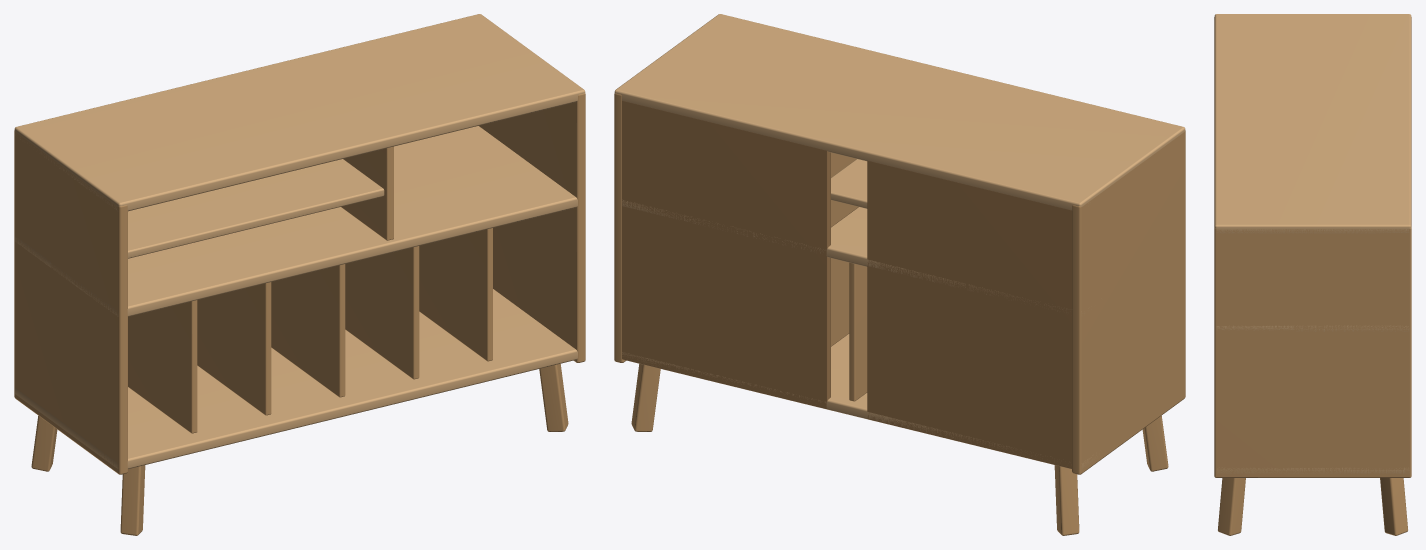
File: vinyl-cabinet.glb
3 renders of one model, left to right at view 1: azimuth 30°, elevation 25°; view 2: azimuth 150°, elevation 25°; view 3: azimuth 270°, elevation 25°, orthographic. The views are drawn at different scales.
Visible parts, largest first — view 1: vinyl-cabinet authored assembly; view 2: vinyl-cabinet authored assembly; view 3: vinyl-cabinet authored assembly.
Part boxes in pixels (box(x1,y1,x2,y2)): vinyl-cabinet authored assembly: box(14, 14, 585, 535); vinyl-cabinet authored assembly: box(614, 14, 1185, 535); vinyl-cabinet authored assembly: box(1214, 14, 1411, 535).
Size of the model in its own units: 1.22 by 0.85 by 0.48.
